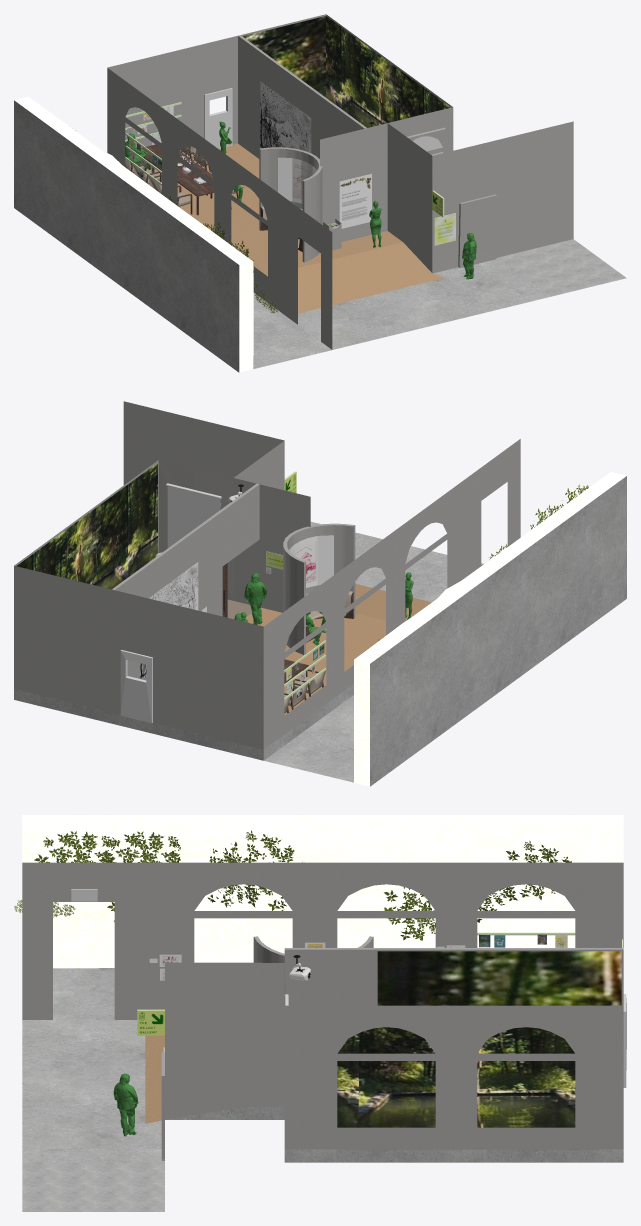
3 renders of one model, top to bottom at view 1: azimuth 30°, elevation 25°; view 2: azimuth 150°, elevation 25°; view 3: azimuth 270°, elevation 25°, orthographic. The views are drawn at different scales.
Parts seen in each view (by area): view 1: Building, outside wall, projection screen, circular-gallery, Dear Little House (2), Group 33, documentationpin1, emergency door, Table, Plane.016, Gallery Plaque, Lowpoly Female Standing.002; view 2: Building, outside wall, projection screen, circular-gallery, Cylinder, emergency door, documentationpin1, Dear Little House (2), Plane.016, Lowpoly Female Standing; view 3: Building, outside wall, projection screen, Circaea Lutetiana Weed Plant Large .001, Lowpoly Female Standing.002, artgallery signage, circular-gallery.
Part boxes in pixels (x1,y1,x2,y2): Building: [107, 14, 626, 351]; outside wall: [14, 97, 323, 372]; projection screen: [243, 16, 450, 127]; circular-gallery: [259, 147, 322, 262]; Dear Little House (2): [260, 81, 311, 152]; Group 33: [339, 174, 371, 228]; documentationpin1: [278, 157, 316, 203]; emergency door: [204, 88, 232, 148]; Table: [140, 143, 214, 215]; Plane.016: [125, 156, 192, 214]; Gallery Plaque: [434, 213, 455, 245]; Lowpoly Female Standing.002: [462, 233, 476, 279]; Building: [14, 401, 520, 762]; outside wall: [273, 472, 626, 786]; projection screen: [16, 463, 157, 589]; circular-gallery: [283, 523, 355, 654]; Cylinder: [166, 483, 221, 547]; emergency door: [120, 650, 152, 723]; documentationpin1: [289, 535, 333, 587]; Dear Little House (2): [140, 562, 198, 679]; Plane.016: [284, 669, 325, 713]; Lowpoly Female Standing: [244, 573, 266, 624]; Building: [22, 862, 623, 1211]; outside wall: [22, 815, 623, 1014]; projection screen: [337, 951, 621, 1127]; Circaea Lutetiana Weed Plant Large .001: [34, 830, 571, 940]; Lowpoly Female Standing.002: [113, 1073, 138, 1136]; artgallery signage: [137, 1010, 164, 1035]; circular-gallery: [253, 936, 373, 962].
Bounding box in the file's own units: 15.01 × 4.35 × 15.39.
Materials: 63 (46 with a texture image).
